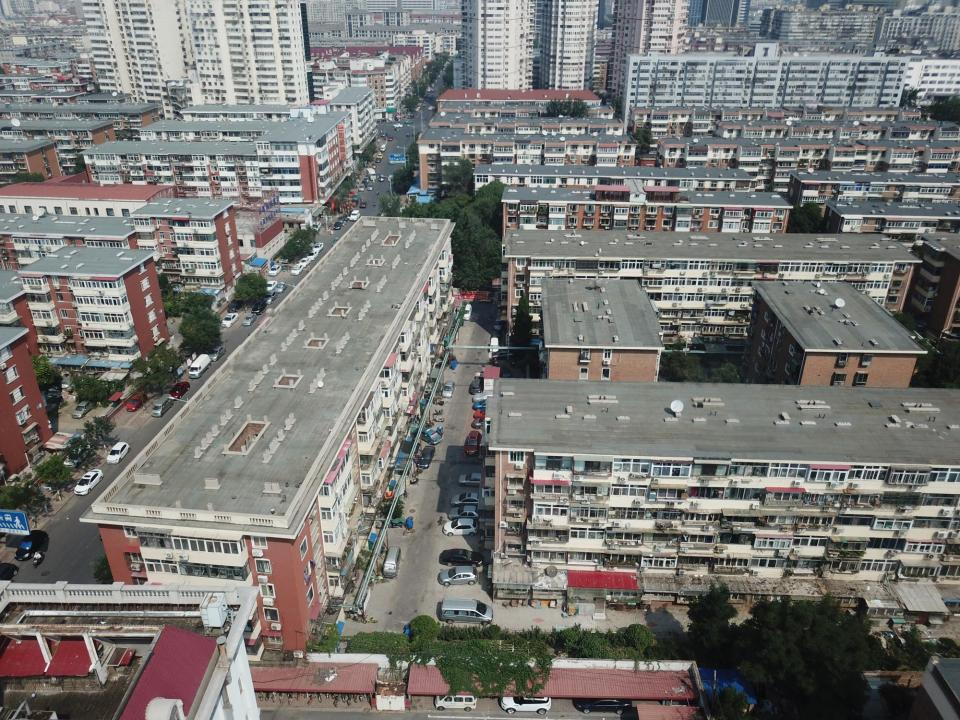car: (574, 688, 633, 715), (500, 689, 552, 715), (15, 530, 48, 561), (440, 548, 483, 568), (74, 468, 104, 496), (62, 443, 92, 471), (437, 566, 479, 586), (442, 517, 479, 538), (447, 505, 482, 523), (449, 492, 484, 510), (105, 441, 131, 465), (71, 397, 95, 419), (418, 426, 443, 446), (416, 445, 436, 469), (125, 392, 148, 412), (167, 381, 191, 400), (464, 431, 482, 456), (458, 472, 486, 488), (471, 415, 498, 430), (1, 561, 20, 582), (472, 398, 499, 412), (472, 390, 499, 403), (206, 345, 226, 362), (473, 408, 501, 420), (250, 299, 268, 316), (226, 297, 244, 314), (440, 380, 456, 398), (221, 312, 238, 327), (262, 290, 279, 304), (469, 377, 483, 394), (242, 313, 257, 326), (290, 263, 304, 276), (265, 279, 278, 292), (268, 264, 282, 276), (275, 282, 288, 294), (298, 256, 310, 267), (307, 250, 318, 261), (312, 221, 322, 232), (313, 242, 323, 252), (331, 237, 340, 248), (351, 193, 359, 202), (391, 123, 404, 128), (366, 183, 374, 191), (358, 184, 366, 192), (361, 179, 368, 188), (333, 221, 340, 230), (370, 162, 377, 170), (359, 200, 366, 208), (404, 118, 413, 124), (380, 131, 388, 137), (375, 158, 382, 164), (387, 136, 393, 142), (377, 153, 383, 159)
truck: (188, 354, 212, 379), (365, 167, 377, 181)
van: (440, 596, 494, 626), (434, 687, 476, 712), (382, 546, 400, 578), (151, 394, 174, 417), (489, 337, 500, 355), (461, 303, 472, 321), (349, 209, 360, 222), (380, 144, 386, 152), (363, 176, 369, 183)
